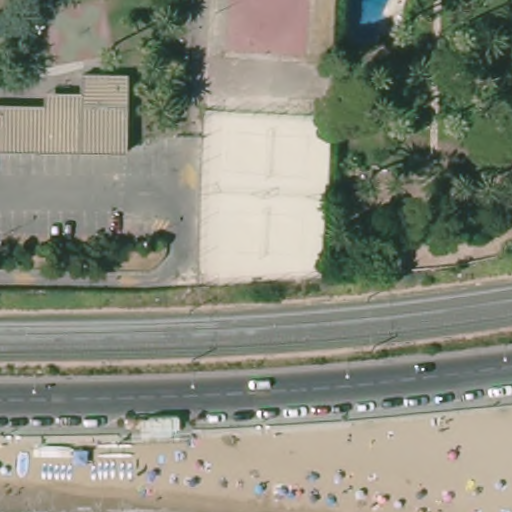pool: (345, 1, 400, 51)
